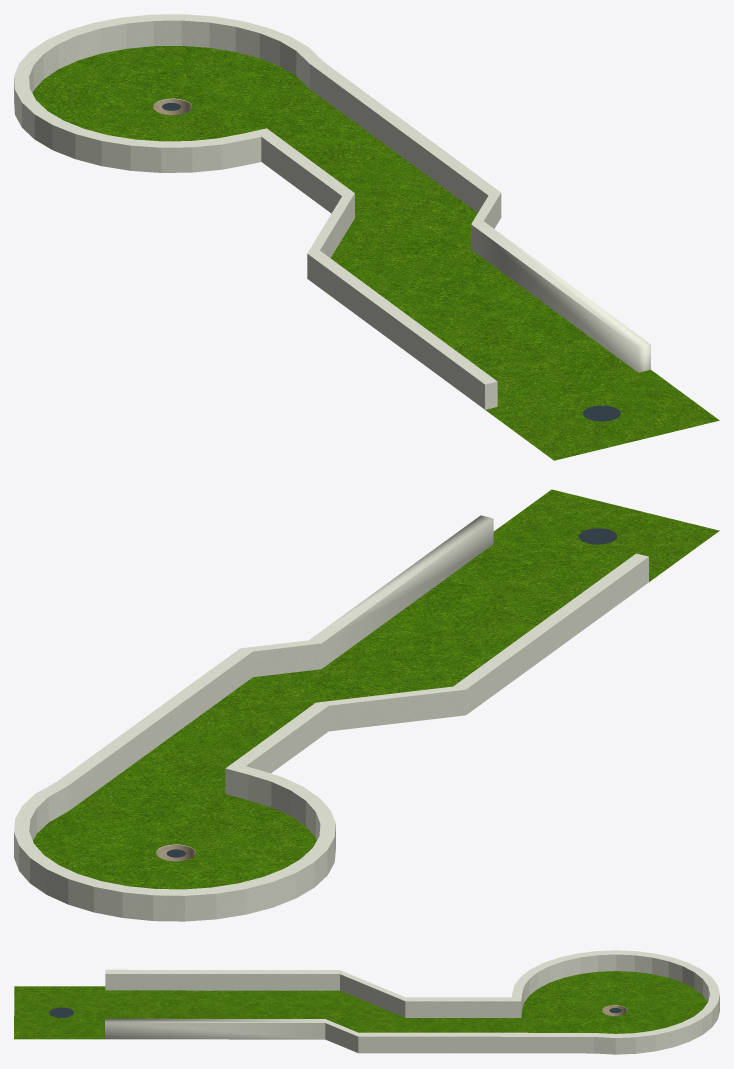
The model's file is pista-prue.glb.
3 renders of one model, top to bottom at view 1: azimuth 30°, elevation 25°; view 2: azimuth 150°, elevation 25°; view 3: azimuth 270°, elevation 25°, orthographic. The views are drawn at different scales.
Parts seen in each view (by area): view 1: circuito-suelo, paredes; view 2: circuito-suelo, paredes; view 3: paredes, circuito-suelo, punto-pelota.
Boxes of the visible parts, x1,y1,x2,y2 form: circuito-suelo: (32, 46, 719, 460); paredes: (14, 14, 650, 409); circuito-suelo: (33, 489, 719, 889); paredes: (14, 515, 648, 921); paredes: (105, 950, 719, 1054); circuito-suelo: (14, 971, 707, 1039); punto-pelota: (49, 1007, 73, 1017).
Bounding box in the file's own units: 2 × 0.4289 × 6.8.
Materials: 4 (3 with a texture image).
